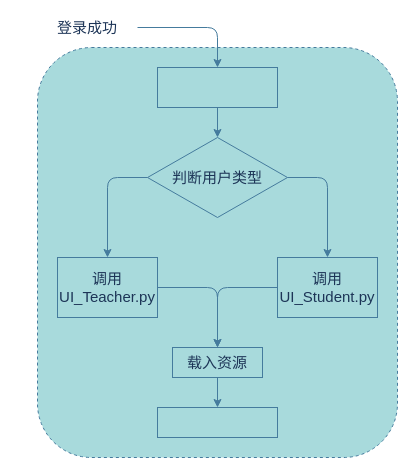
This 415x475 diagram has some shape labels left out. The shapes that lost their labels are listed below. From the top down, each one's centre as x and y in pixels, then its label:
(x=217, y=87): 载入用户信息
(x=217, y=422): 绑定按钮信号槽
